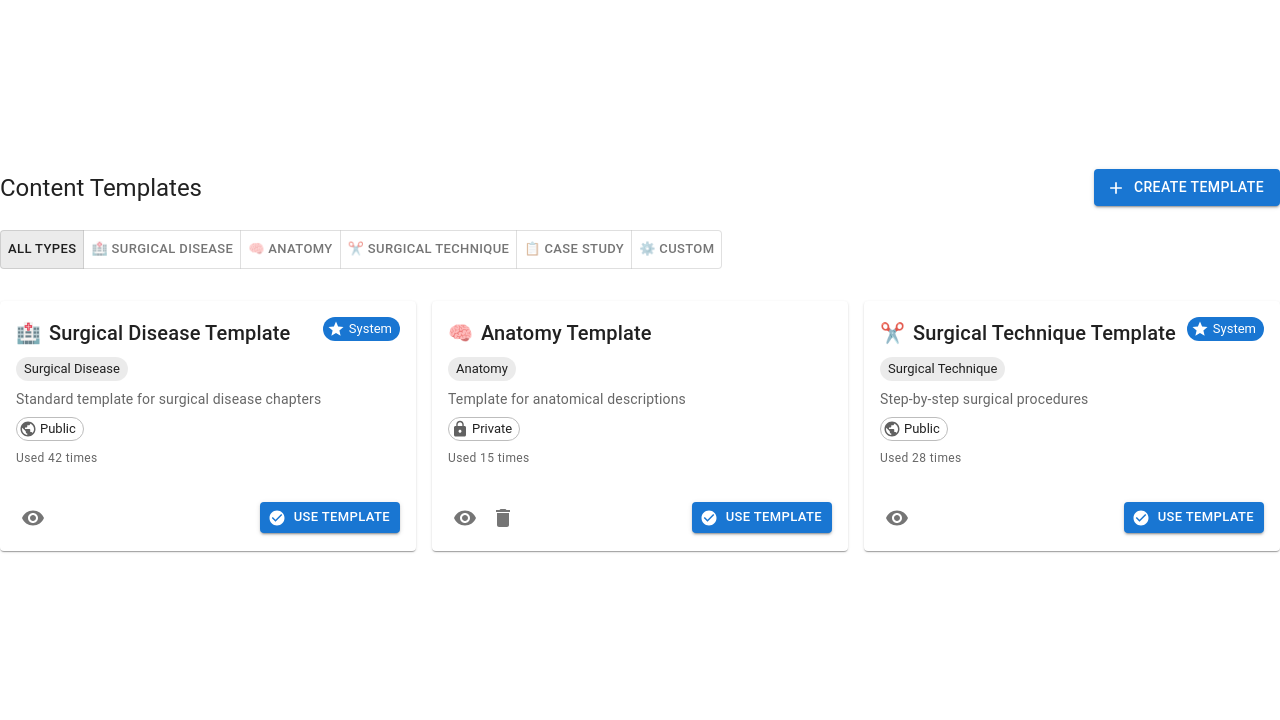
Scenario: TemplateSelector Component › Create Template Dialog › should open create dialog when Create Template clicked
Expected: the heading "Content Templates" is shown, [0,172,202,204]
Click the button "Create Template" at (1187, 188), box [1094,169,1279,206]
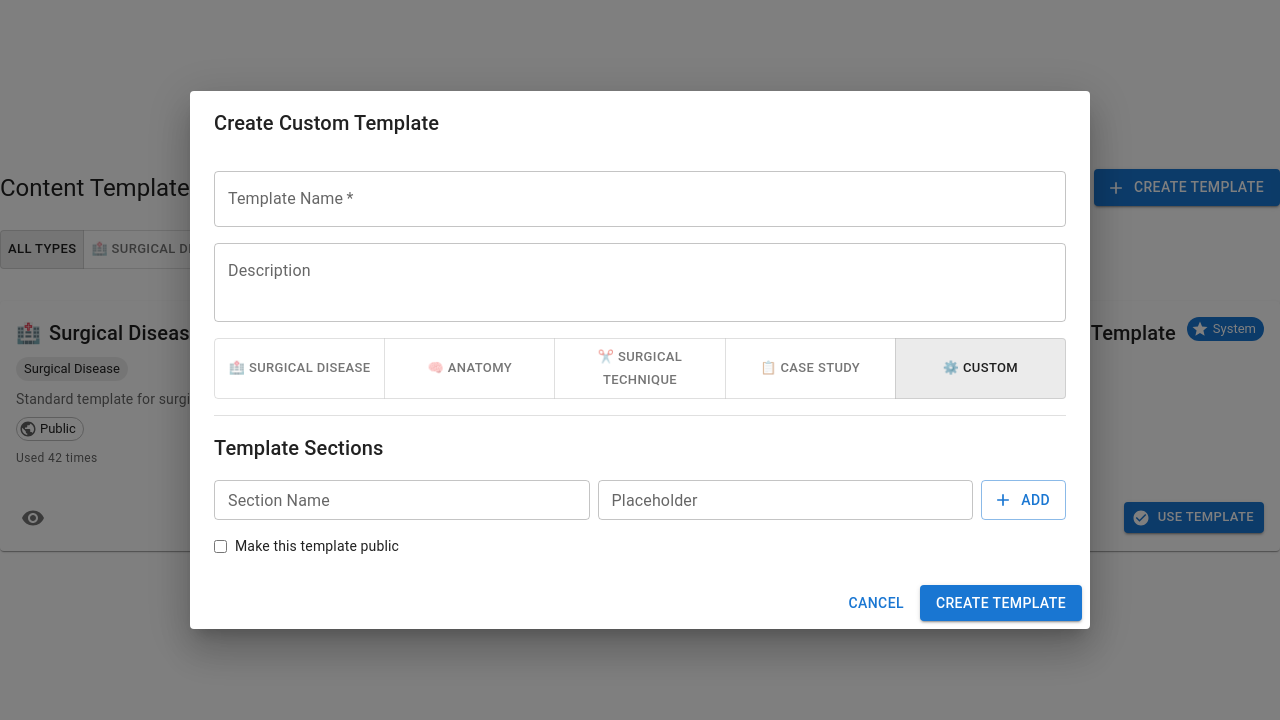
Now the heading "Create Custom Template" is shown, box [214,111,439,135]
